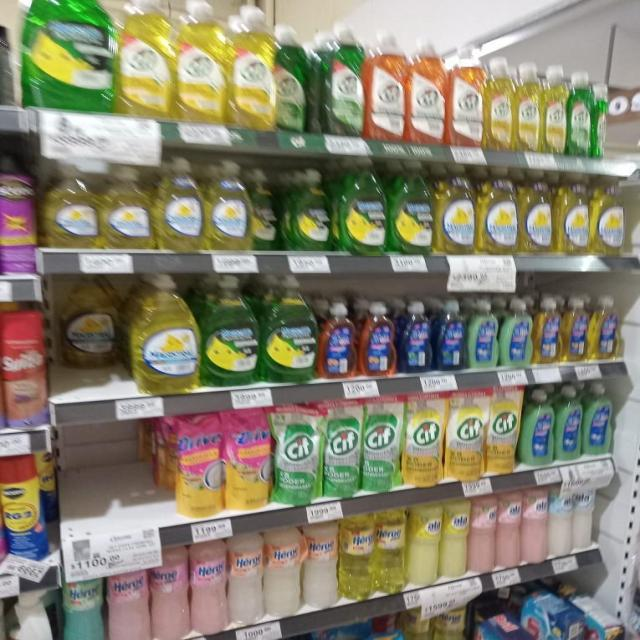ala_crem_blanco: (548, 484, 571, 558), (572, 479, 595, 551)
ala_crem_rosado: (496, 490, 520, 569)
cif_conc_bot_amarilla: (176, 0, 228, 124), (120, 0, 174, 118), (231, 6, 274, 131), (486, 57, 515, 152), (516, 62, 541, 154), (543, 65, 567, 155)
cif_conc_botella_roja: (366, 32, 407, 143), (409, 38, 448, 147), (450, 52, 484, 148)
cif_conc_botella_verde: (320, 26, 364, 137), (275, 24, 311, 133), (568, 69, 593, 157)
cif_conc_sachet_amarillo: (403, 392, 443, 486), (445, 389, 484, 481), (486, 387, 518, 476)
cif_conc_sachet_verde: (274, 404, 320, 505), (323, 399, 361, 499), (363, 396, 400, 492)
drive: (170, 412, 222, 518), (224, 407, 271, 511)
heroe: (107, 553, 150, 640), (190, 537, 227, 635), (151, 544, 188, 640), (264, 525, 302, 617), (61, 563, 105, 640), (228, 531, 263, 627), (302, 519, 338, 609), (339, 514, 373, 600), (374, 508, 406, 594)
magistral_con_amarillo: (130, 274, 200, 394), (56, 273, 121, 369), (44, 159, 100, 249), (155, 156, 205, 252), (102, 161, 152, 250), (208, 158, 250, 252), (436, 164, 476, 255), (478, 167, 518, 255), (520, 169, 553, 255), (591, 173, 625, 256), (556, 171, 589, 255), (627, 171, 640, 258)
magistral_con_verde: (284, 167, 334, 252)
zorro: (320, 301, 357, 380), (359, 300, 396, 377), (522, 388, 554, 468), (434, 298, 466, 372), (400, 300, 432, 373), (500, 297, 532, 368), (467, 298, 498, 370), (554, 385, 582, 462), (583, 382, 612, 456), (590, 295, 619, 361), (534, 296, 560, 364), (562, 296, 588, 362)
